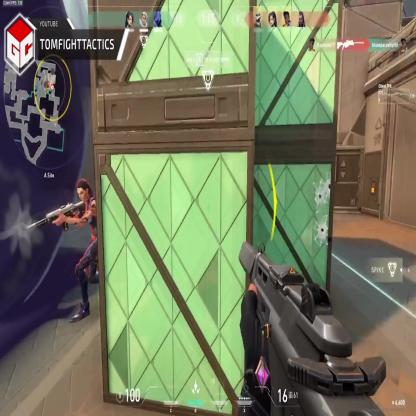enemy: (71, 177, 109, 322)
enemy_head: (77, 178, 90, 203)
